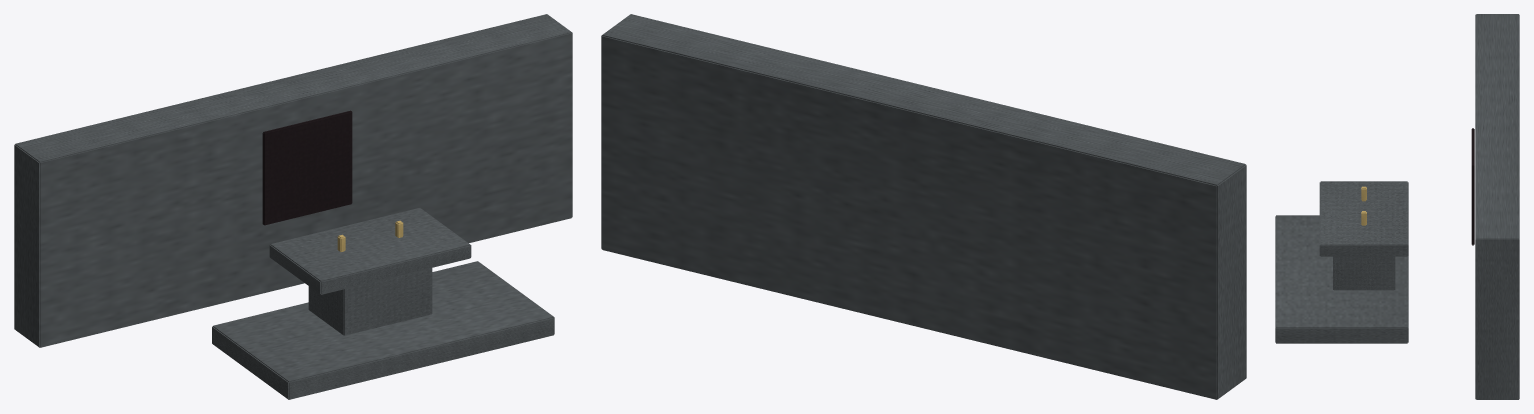
File: dungeonAltar-v1.glb
The picture shows the model from 3 angles, left to right: view 1: azimuth 30°, elevation 25°; view 2: azimuth 150°, elevation 25°; view 3: azimuth 270°, elevation 25°; orthographic projection. The views are drawn at different scales.
Visible parts, largest first — view 1: Altar back wall, Altar dais, Altar slab, Ritual recess, Altar pedestal; view 2: Altar back wall; view 3: Altar back wall, Altar dais, Altar slab, Altar pedestal, Ritual recess.
Part boxes in pixels (x1=…): Altar back wall: x1=14, y1=14, x2=572, y2=347; Altar dais: x1=212, y1=261, x2=554, y2=399; Altar slab: x1=269, y1=208, x2=471, y2=294; Ritual recess: x1=262, y1=110, x2=352, y2=225; Altar pedestal: x1=308, y1=268, x2=432, y2=335; Altar back wall: x1=601, y1=14, x2=1246, y2=399; Altar back wall: x1=1475, y1=14, x2=1519, y2=399; Altar dais: x1=1275, y1=215, x2=1408, y2=343; Altar slab: x1=1319, y1=181, x2=1408, y2=256; Altar pedestal: x1=1333, y1=256, x2=1395, y2=290; Ritual recess: x1=1471, y1=128, x2=1474, y2=245.
Size of what is drawn, in the model's own units: 12 by 4 by 5.5.
7 materials, 7 textured.
